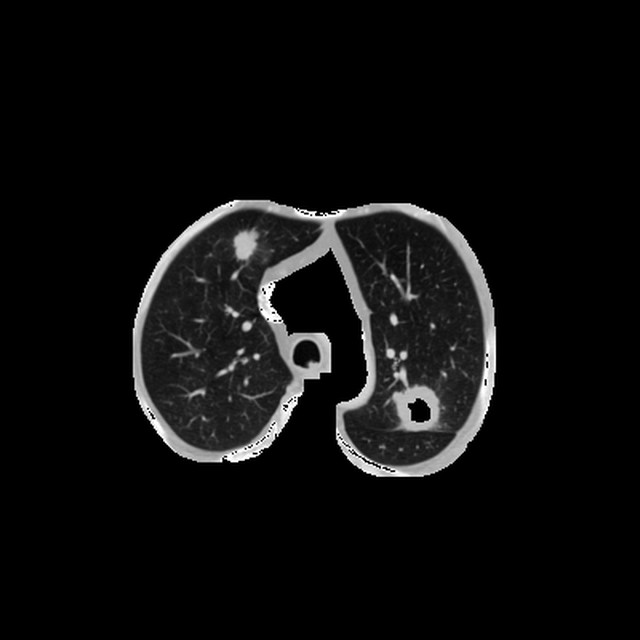PN: (392, 384, 443, 435)
